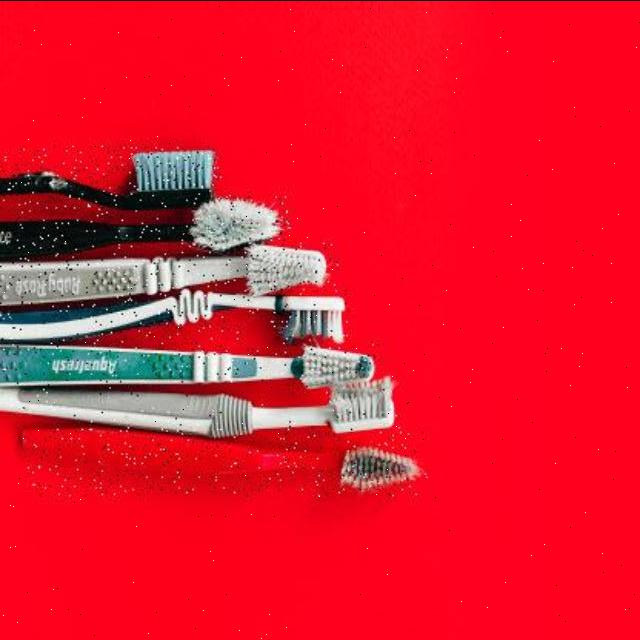toothbrush: (26, 426, 428, 496), (0, 242, 340, 304), (1, 374, 402, 426), (1, 341, 382, 394), (0, 287, 350, 343), (0, 194, 290, 256), (0, 145, 222, 215)
